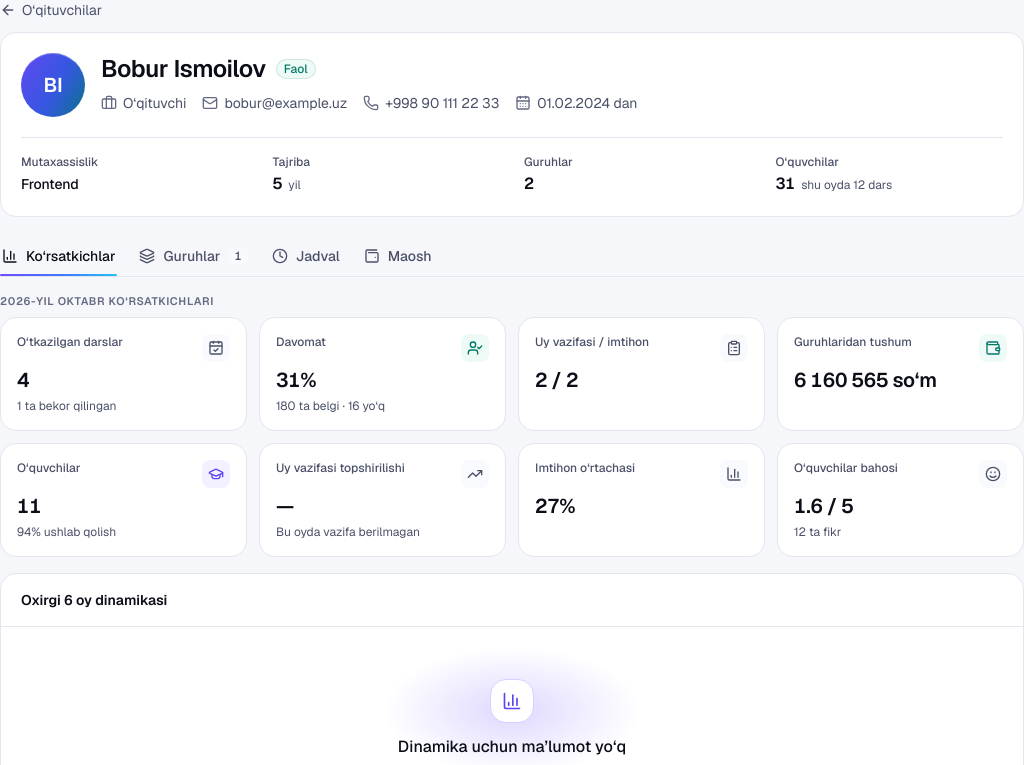
O‘qituvchi profili (sahifa) › sarlavha va ko‘rsatkichlar; guruhlar; maosh — ruxsatsiz yopiq
Expected: the heading "Bobur Ismoilov" is shown, [101,53,266,85]
Expected: the list item "bobur@example.uz" is shown, [202,93,347,113]
Click the tab "Guruhlar 1" at (194, 257), box [138,237,250,277]
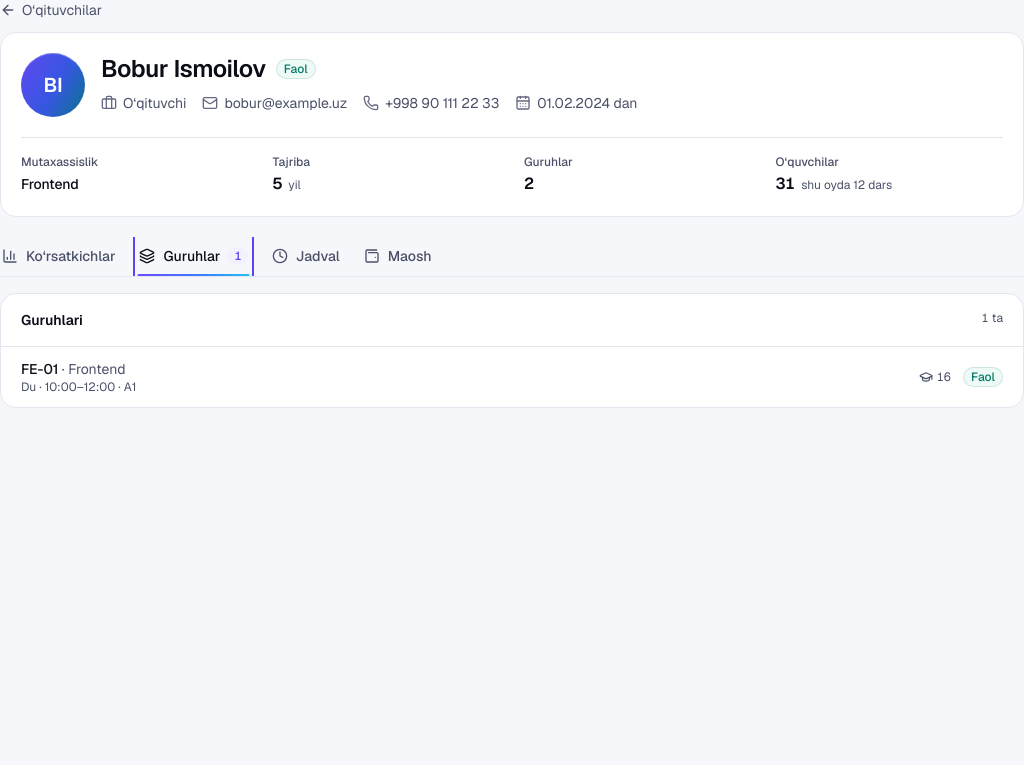
Result: the panel shows "FE-01" at [21,360,58,378]
Click the tab "Maosh" at (398, 257), box [362,237,434,277]
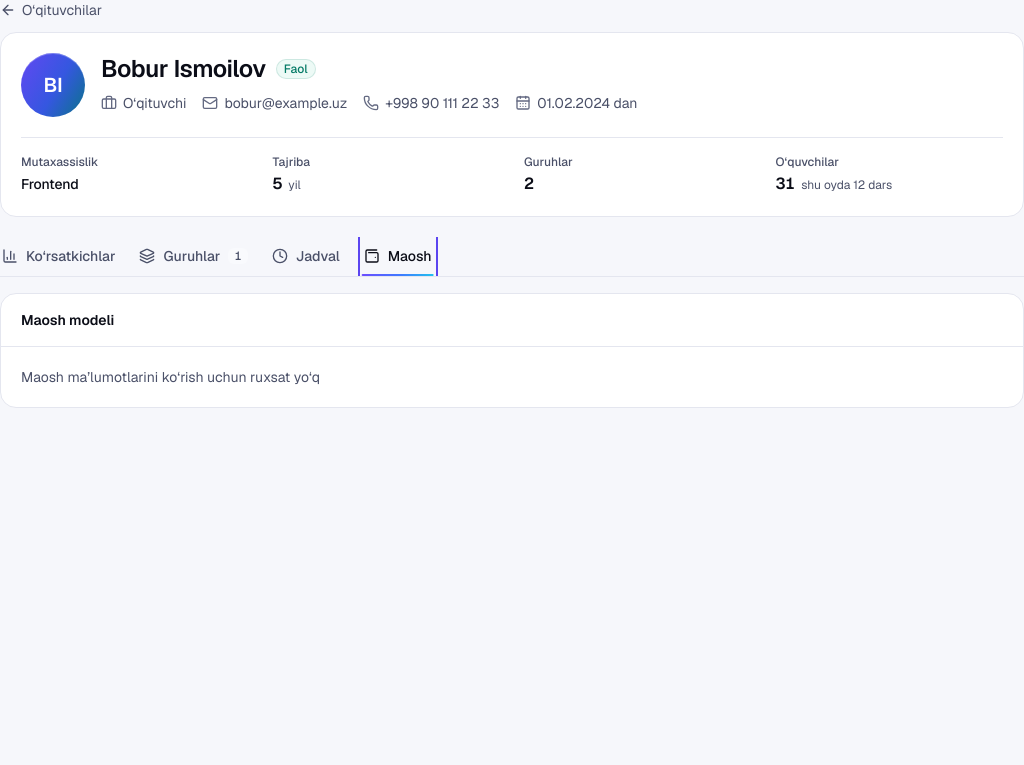
Result: the panel shows "Maosh ma’lumotlarini ko‘rish uchun ruxsat yo‘q" at [21,368,320,386]
